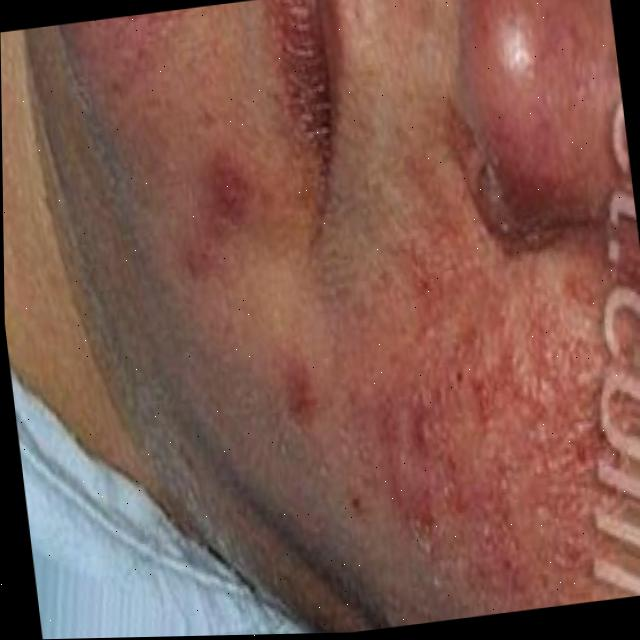Rosacea: (273, 233, 640, 626), (448, 0, 587, 224), (59, 6, 209, 108), (172, 156, 261, 292)
